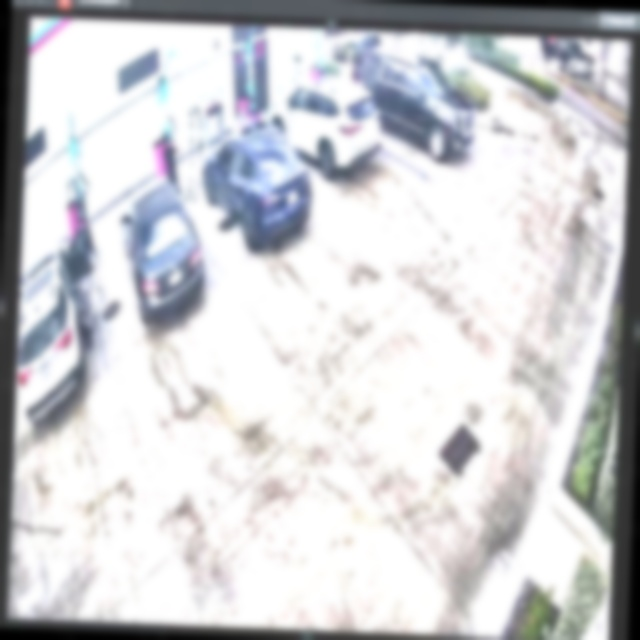Car: (349, 40, 478, 163), (199, 121, 314, 250), (117, 177, 207, 324), (267, 76, 383, 180)
